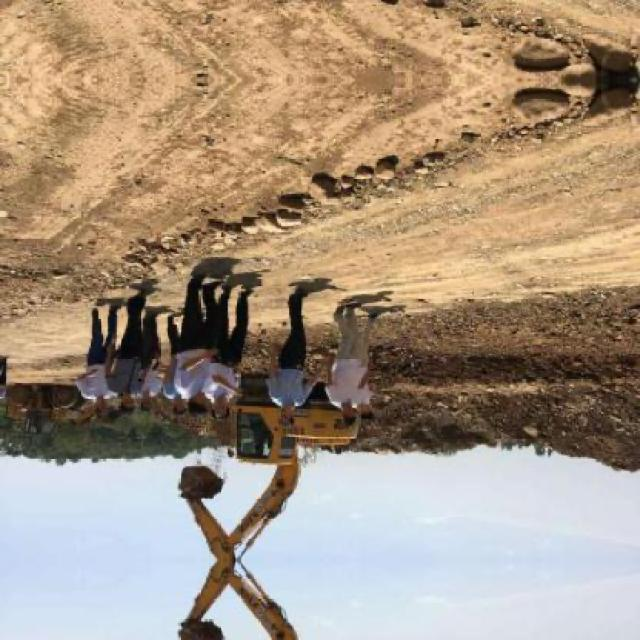sin casco: (247, 388, 340, 424), (200, 374, 256, 422), (104, 375, 146, 424), (86, 368, 132, 411), (166, 372, 204, 414), (322, 411, 378, 428)
